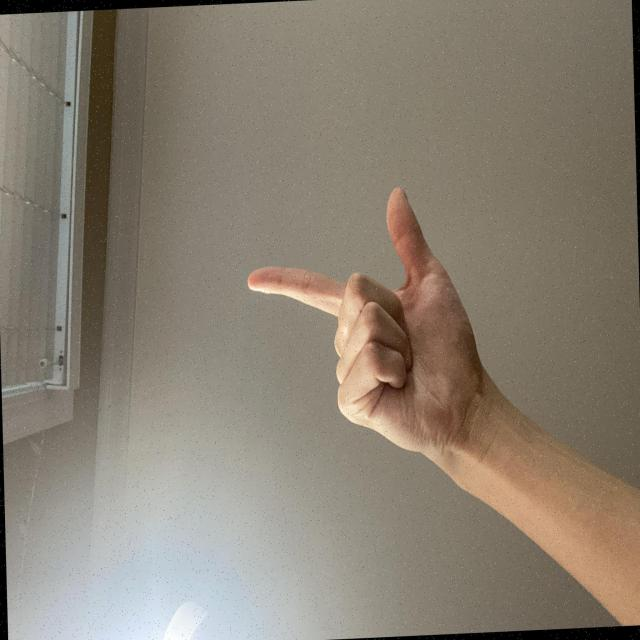L: (118, 326, 350, 640)
